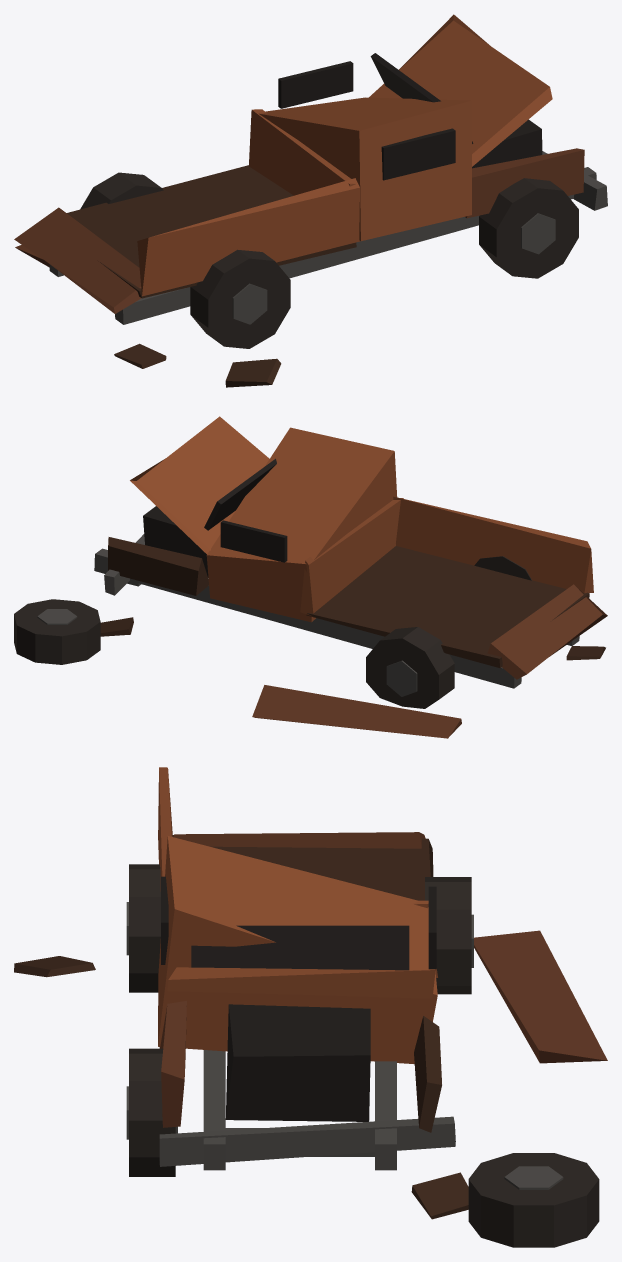
The model's file is wreck.glb.
3 views of the same model, one above another, from view 1: azimuth 30°, elevation 25°; view 2: azimuth 150°, elevation 25°; view 3: azimuth 270°, elevation 25° (orthographic). The views are drawn at different scales.
Visible parts, largest first — view 1: wreck; view 2: wreck; view 3: wreck.
Boxes of the visible parts, left/top/right/bottom form: wreck: left=14, top=14, right=607, bottom=387; wreck: left=14, top=416, right=607, bottom=738; wreck: left=14, top=767, right=607, bottom=1247.
Bounding box in the file's own units: 5.14 × 1.7 × 3.81.
